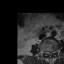CCS_normal: (48, 49, 51, 59)
LFS_stenosis: (53, 48, 55, 55)
LLS_normal: (51, 48, 53, 56)
RFS_normal: (44, 48, 46, 56)
RLS_normal: (46, 48, 48, 56)
